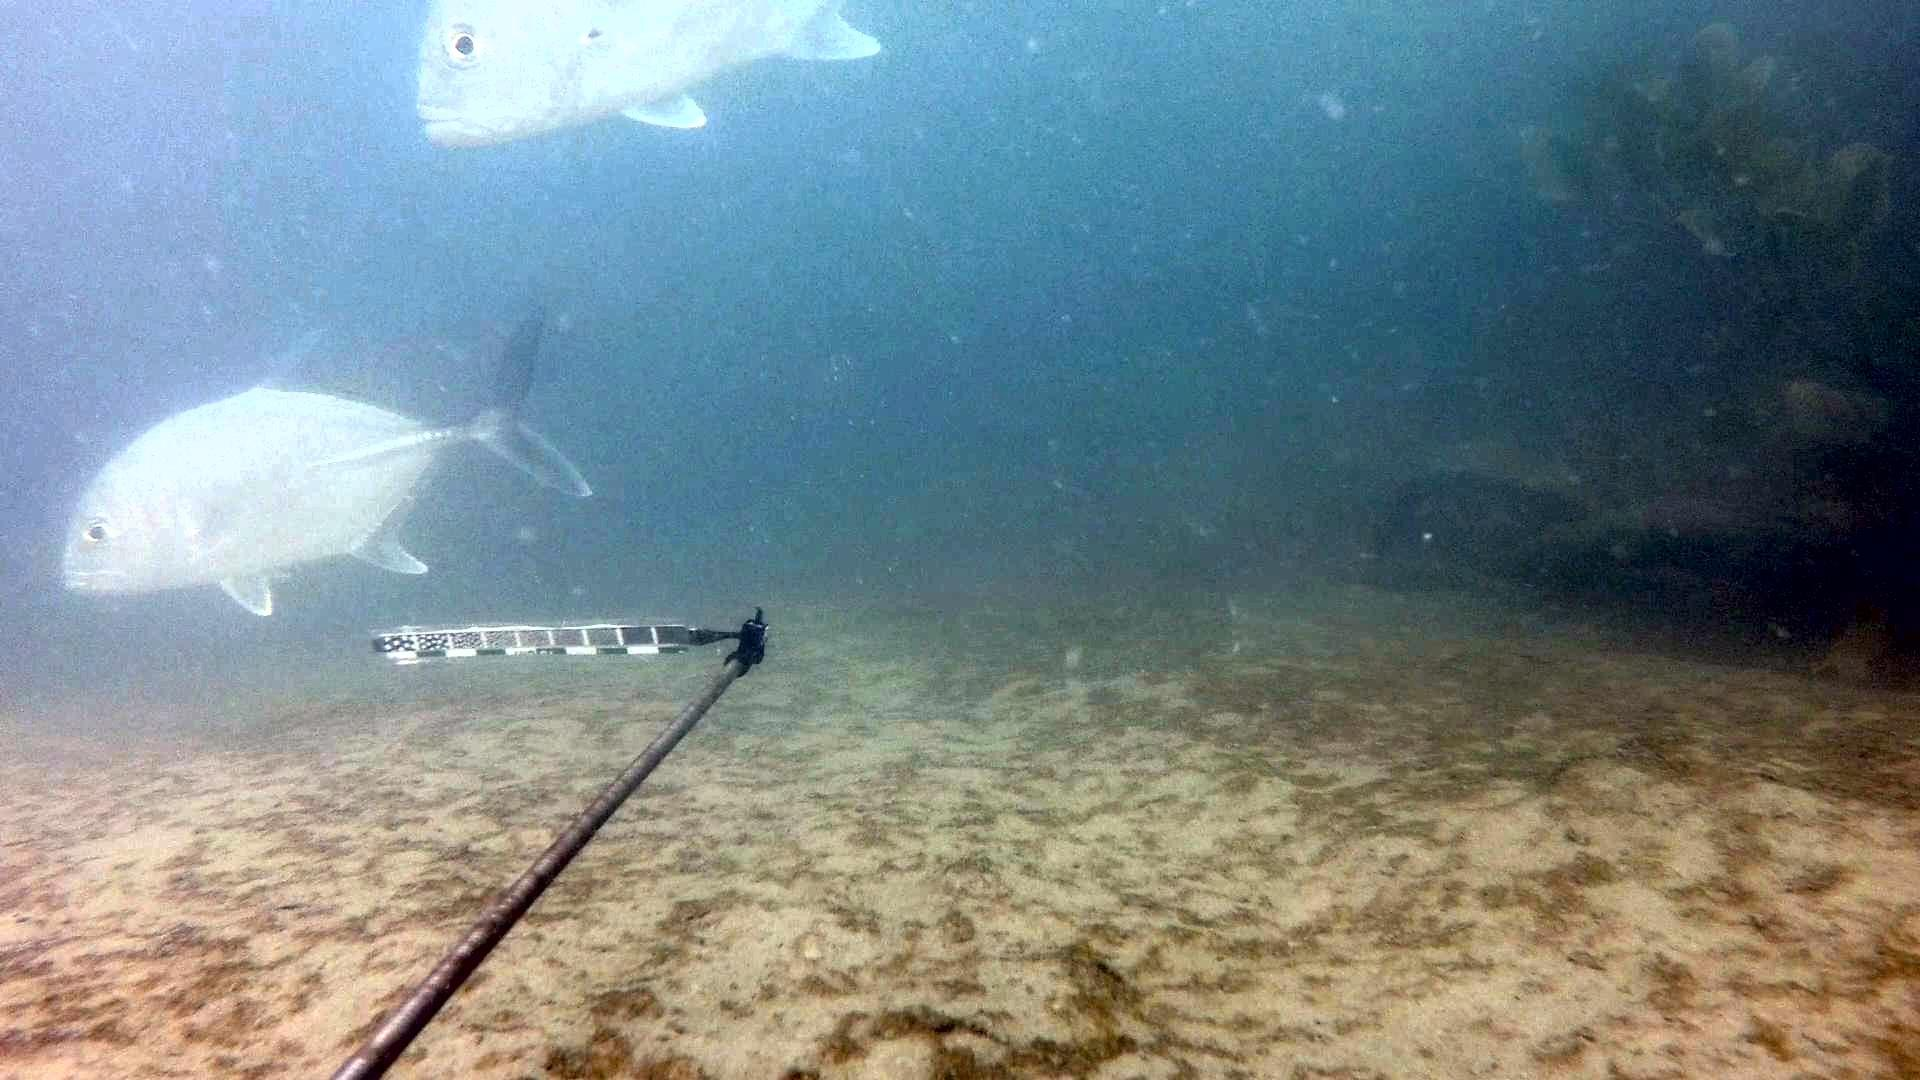caranx: (55, 298, 618, 620), (400, 0, 887, 158)
